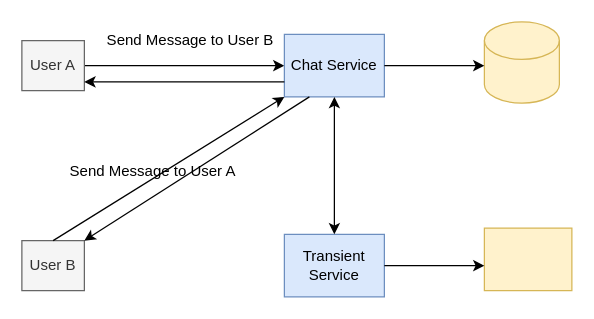
Some shapes in this 594 by 319 pixel diagram are drawn without their labels. The centre of each missing label's shape, as x and y in pixels:
Chat Data Store: the point at 521,62
Transient Storage: the point at 527,259
